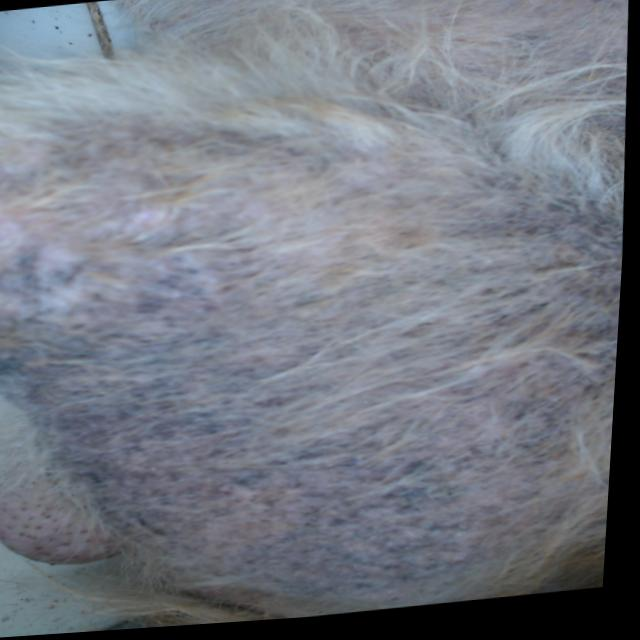demodicosis: (41, 234, 271, 505), (267, 456, 469, 615)
